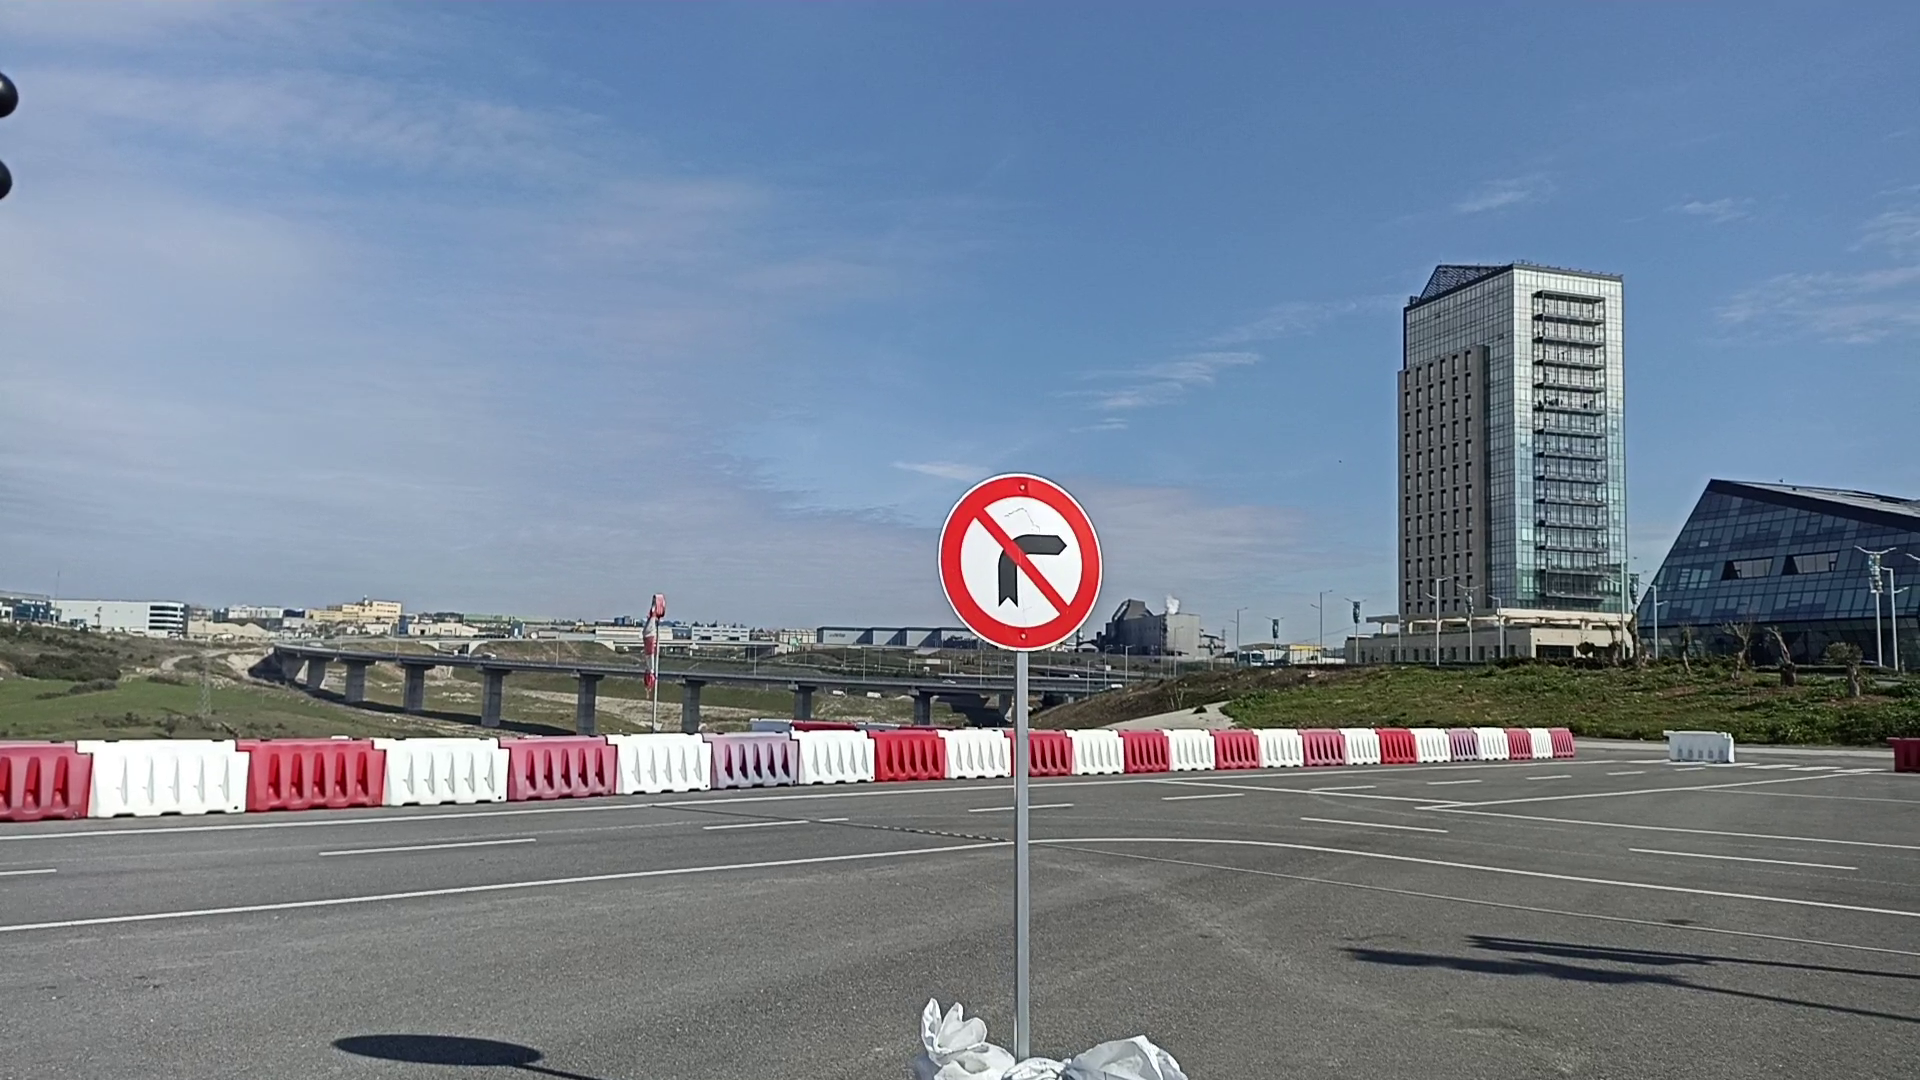noleftturn: (934, 471, 1106, 654)
